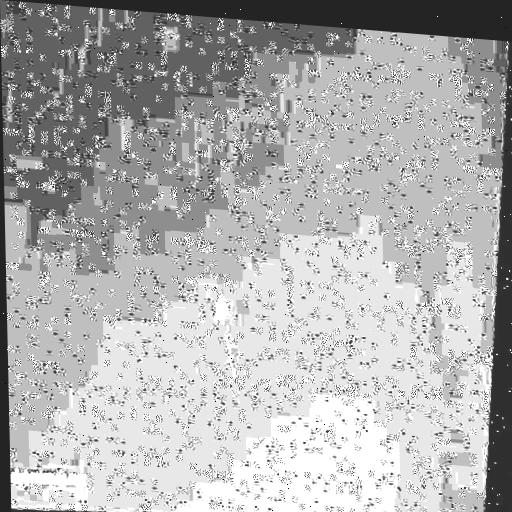balloon: (221, 301, 232, 326)
